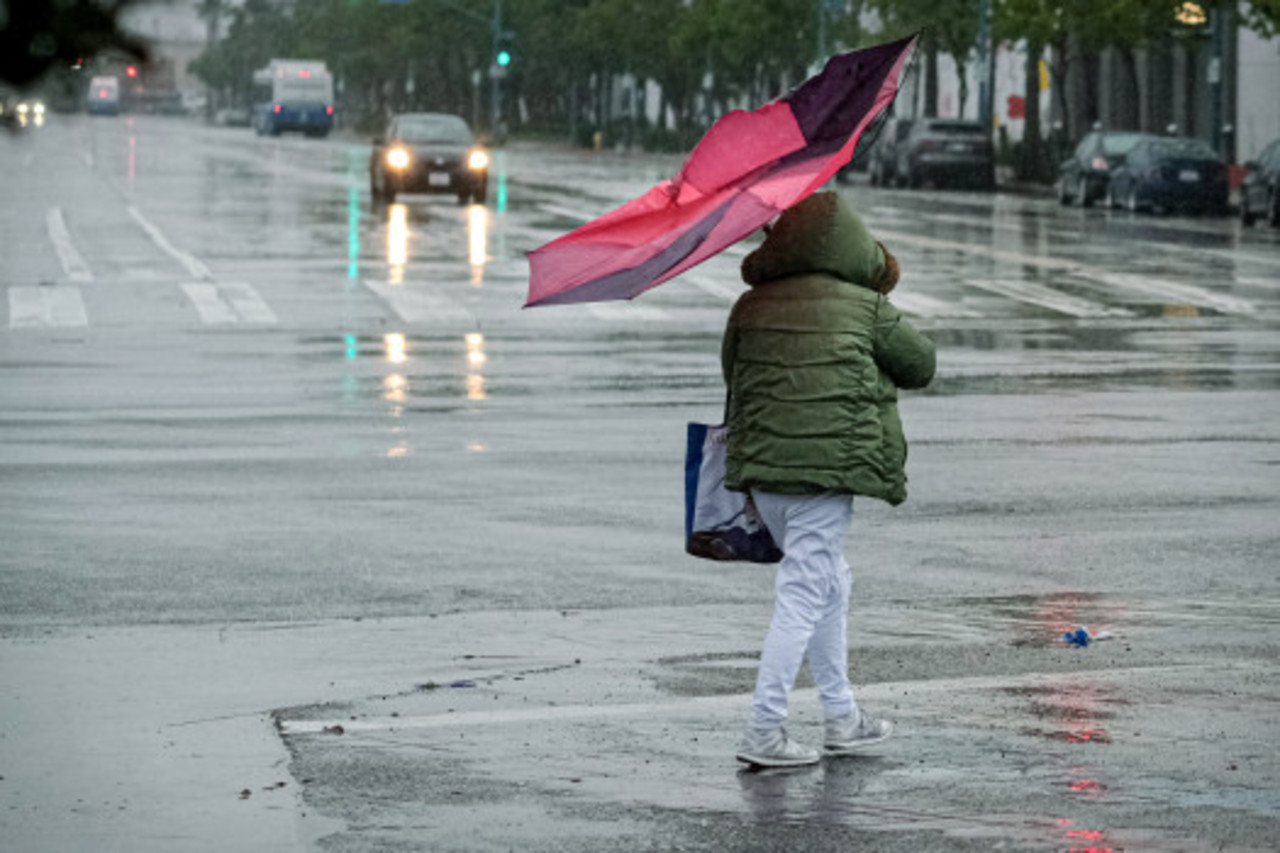car: (1065, 129, 1218, 212), (373, 111, 491, 206), (250, 70, 334, 135), (906, 120, 995, 180), (1236, 136, 1274, 233)
person: (732, 193, 928, 766)
